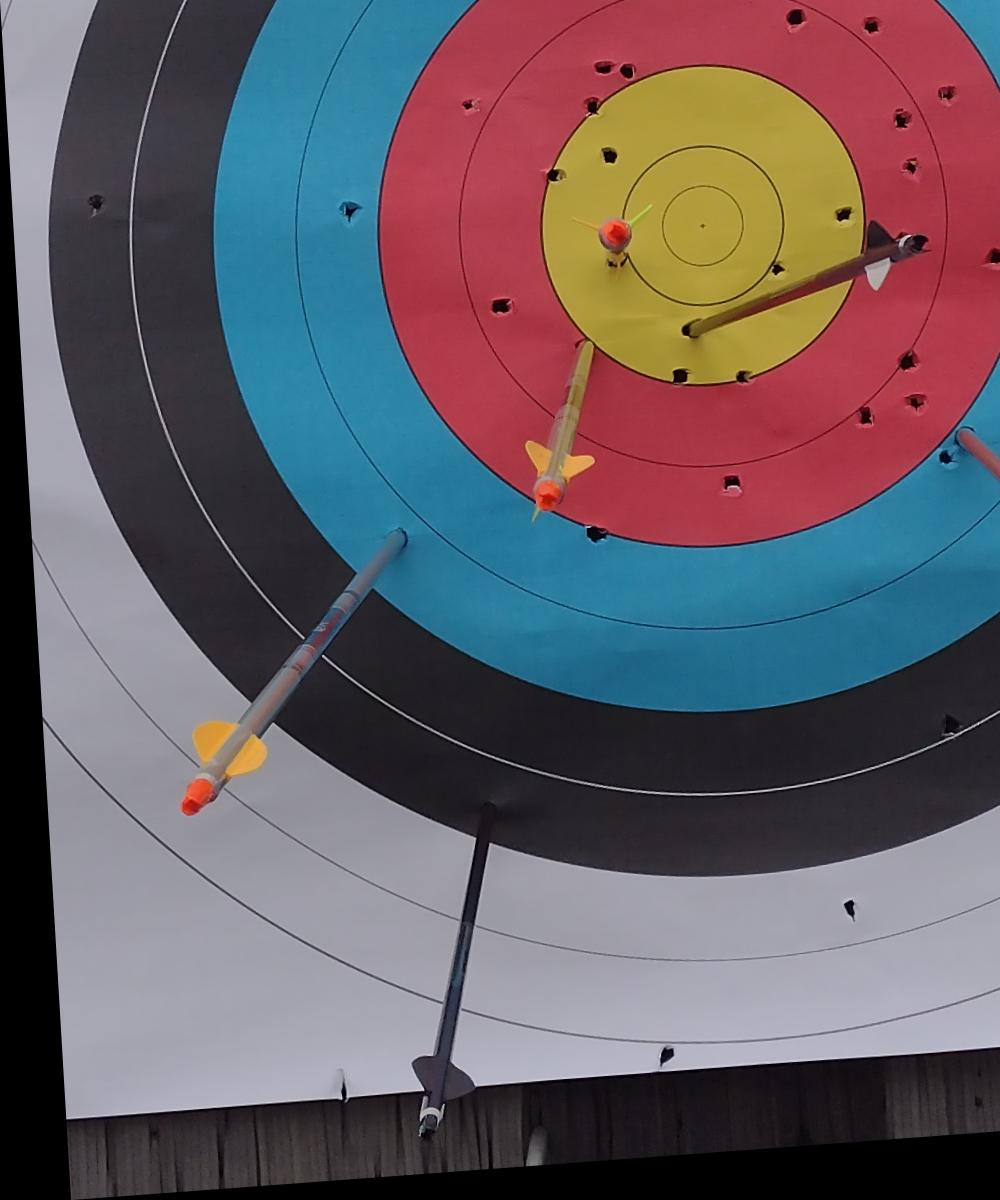10-Ring: (617, 154, 783, 321)
2-Ring: (2, 0, 1000, 972)
3-Ring: (46, 0, 1000, 887)
4-Ring: (124, 0, 1000, 808)
5-Ring: (211, 0, 1000, 725)
6-Ring: (291, 0, 1000, 642)
7-Ring: (375, 0, 1000, 561)
9-Ring: (509, 48, 891, 425)
Arrow: (138, 528, 436, 832), (678, 215, 935, 386), (392, 809, 484, 1151), (519, 351, 589, 531)
